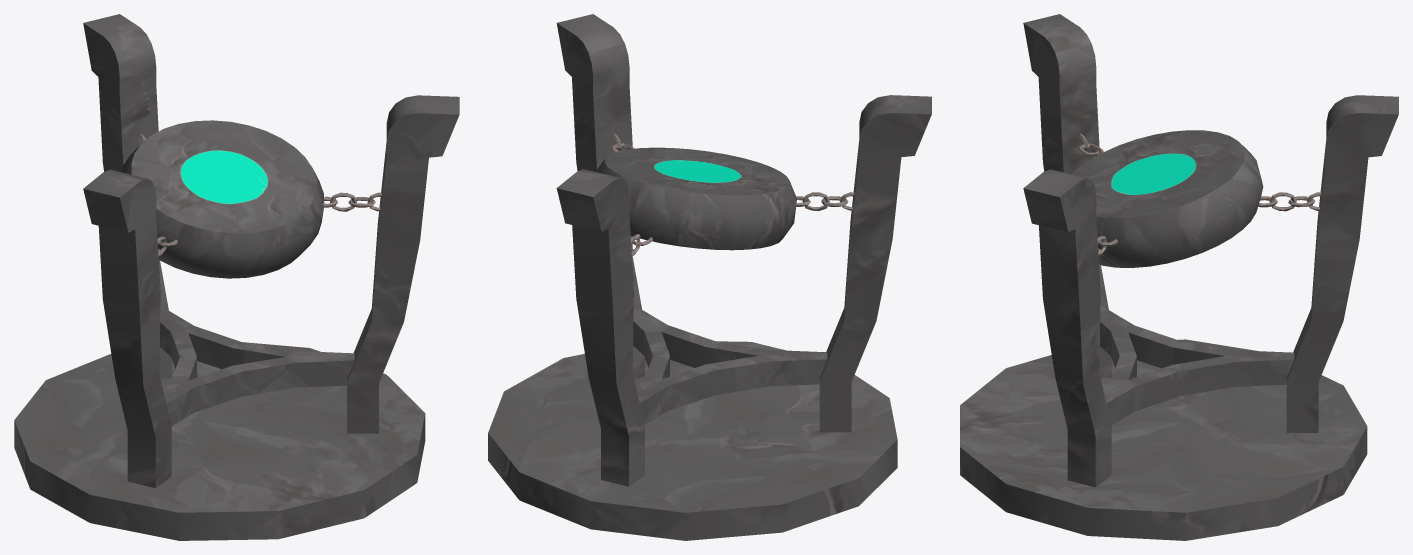
File: i_terminal.fbx
The picture shows the model from 3 angles, left to right: view 1: azimuth 30°, elevation 25°; view 2: azimuth 150°, elevation 25°; view 3: azimuth 270°, elevation 25°; orthographic projection.
Parts seen in each view (by area): view 1: i_terminal; view 2: i_terminal; view 3: i_terminal.
Part boxes in pixels (x1,y1,x2,y2): i_terminal: [14, 14, 459, 540]; i_terminal: [488, 14, 931, 540]; i_terminal: [960, 14, 1398, 540].
Bounding box in the file's own units: 126 × 112 × 127.
1 material, 1 textured.
